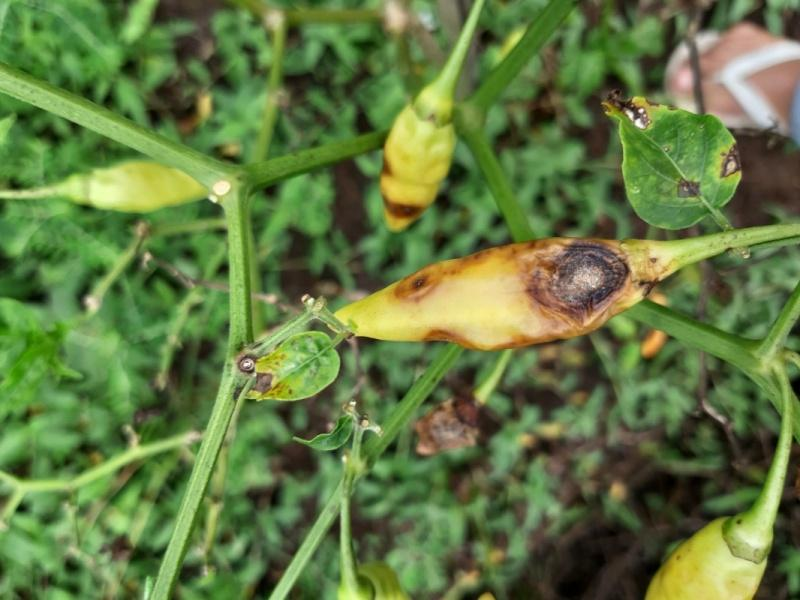antraknosa: (323, 238, 639, 347), (646, 517, 768, 600), (380, 110, 452, 231)
cabai_normal: (82, 156, 216, 214)
